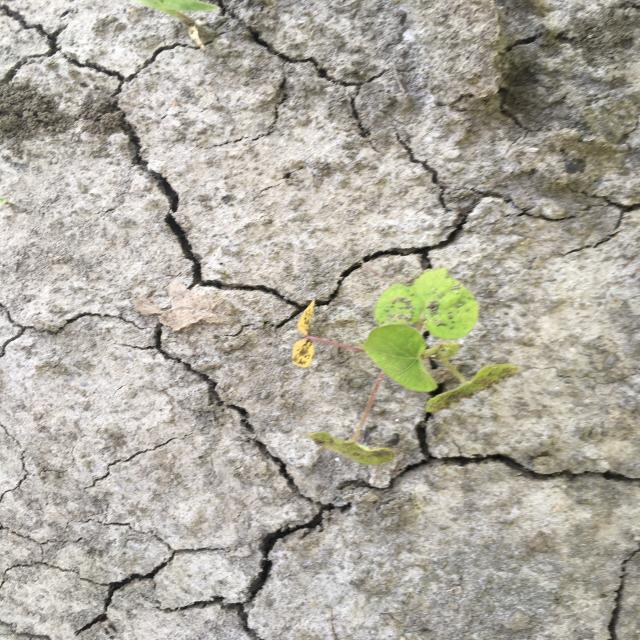MorningGlory: (290, 267, 522, 467)
